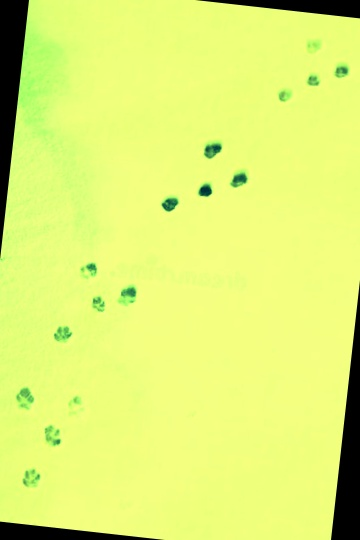lapin: (304, 399, 335, 430), (258, 395, 280, 435), (216, 287, 249, 313), (258, 264, 289, 291), (149, 130, 177, 159), (277, 438, 303, 468), (277, 327, 299, 359), (292, 480, 318, 506), (185, 190, 210, 216), (121, 158, 143, 187), (151, 178, 174, 203), (62, 18, 84, 43), (30, 35, 47, 64), (83, 75, 106, 96), (249, 299, 266, 322), (56, 58, 76, 73)
